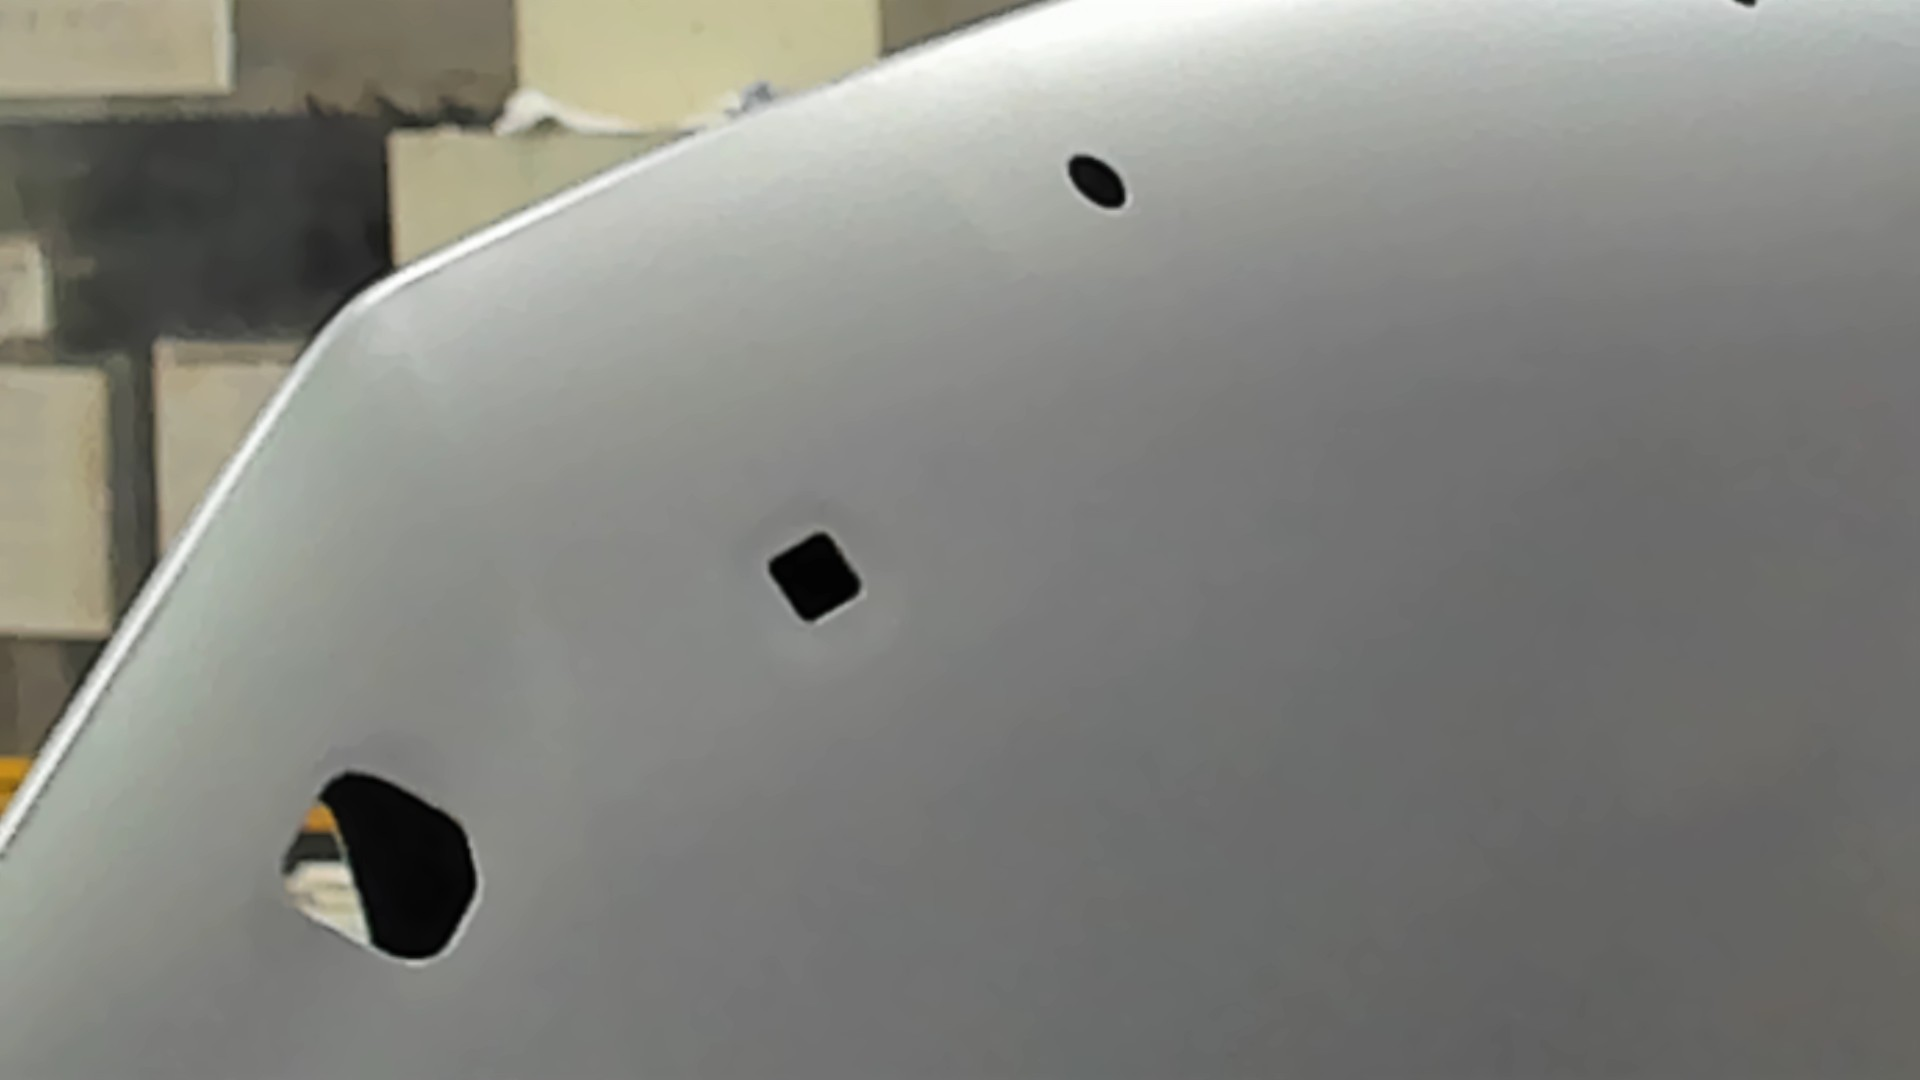chico: (1062, 142, 1133, 218)
grande: (277, 764, 483, 969)
mediano: (760, 524, 870, 633)
